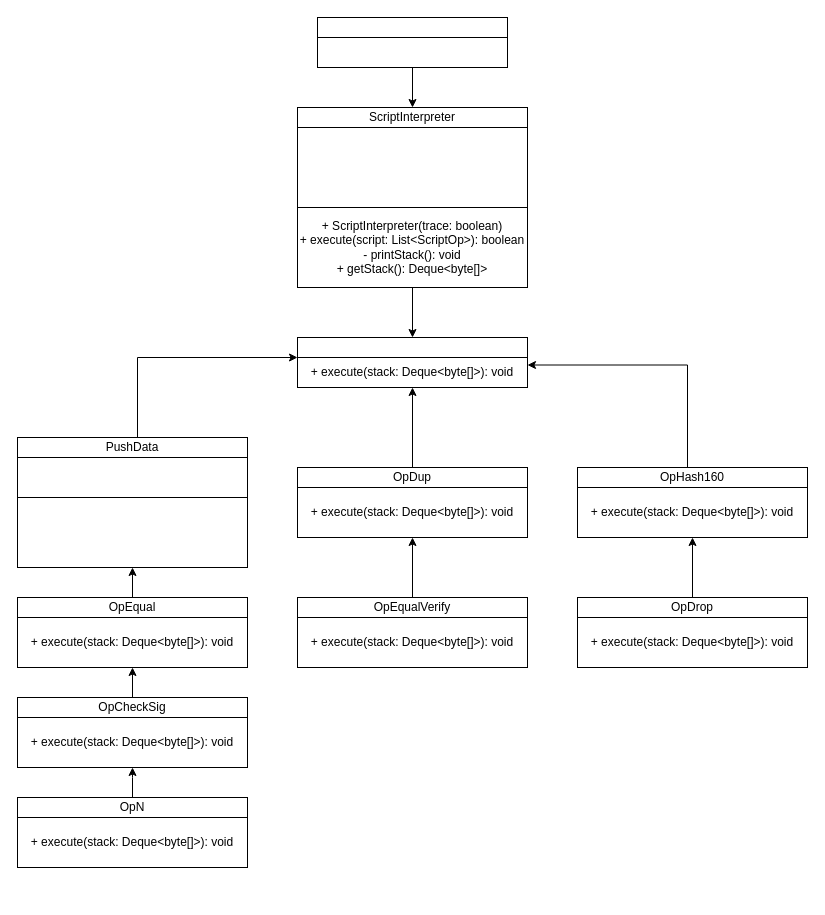
Image size: 825x915. Some labels were removed from this diagram. The shapes that lost their labels are listed below. From the top down, each one's centre as x and y in pixels, then its label:
At (x=412, y=27): "Main".
At (x=412, y=52): "main(args : String() : void".
At (x=412, y=167): "- stack: Deque<byte[]> - trace: boolean".
At (x=412, y=347): "ScriptOp".
At (x=132, y=477): "- data: byte[]".
At (x=132, y=532): "+ PushData(data: byte[]) + execute(stack: Deque<byte[]>): void".
